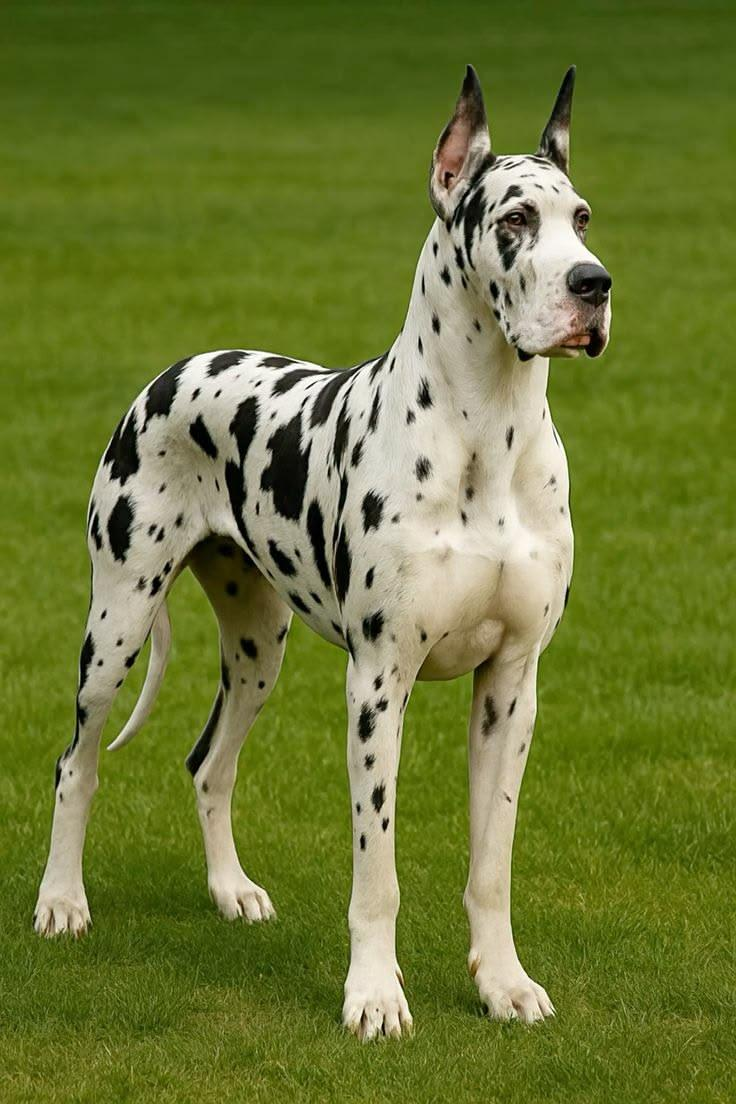dog: (35, 68, 609, 1037)
